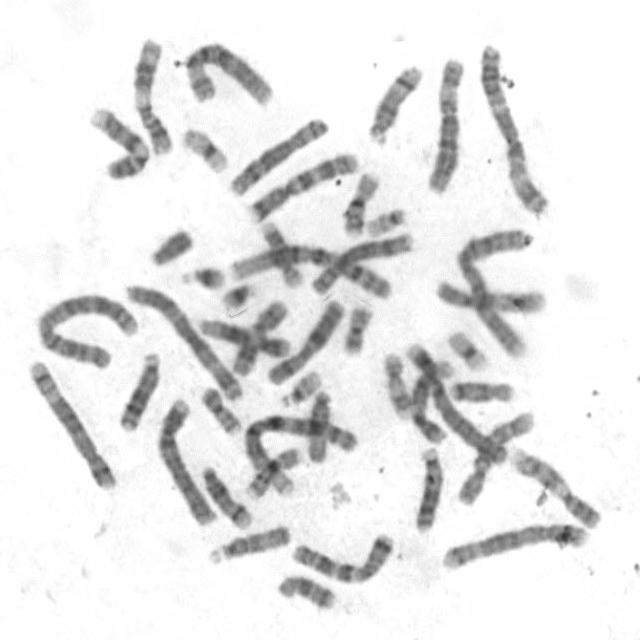A1: (240, 407, 360, 504), (223, 239, 395, 301)
A2: (452, 223, 536, 361), (32, 288, 142, 371)
A3: (121, 278, 245, 403), (474, 39, 551, 218)
B4: (402, 338, 510, 468), (154, 394, 219, 526)
B5: (24, 355, 120, 492), (437, 518, 589, 573)
C10: (453, 407, 537, 508), (433, 279, 547, 319)
C11: (128, 35, 174, 156), (228, 296, 290, 378)
C12: (405, 357, 456, 445), (192, 314, 291, 359)
C6: (179, 38, 276, 109), (422, 54, 467, 196)
C7: (244, 149, 360, 223), (288, 529, 396, 585)
C8: (224, 112, 330, 198), (307, 229, 416, 297)
C9: (509, 444, 603, 530), (85, 104, 151, 182)
D13: (114, 348, 163, 432), (410, 443, 446, 532)
D14: (363, 60, 424, 147), (198, 462, 253, 531)
D15: (205, 520, 291, 566), (301, 386, 334, 465)
E16: (242, 443, 306, 499), (337, 168, 381, 237)
E17: (256, 217, 305, 290), (379, 348, 412, 421)
E18: (273, 570, 338, 612), (446, 376, 517, 405)
F19: (178, 124, 230, 176), (443, 327, 491, 372)
F20: (197, 381, 244, 436), (339, 301, 376, 356)
G21: (177, 261, 227, 292), (217, 277, 258, 314)
G22: (276, 367, 324, 410), (362, 205, 409, 237)
X: (263, 295, 347, 387)
Y: (145, 224, 195, 268)
